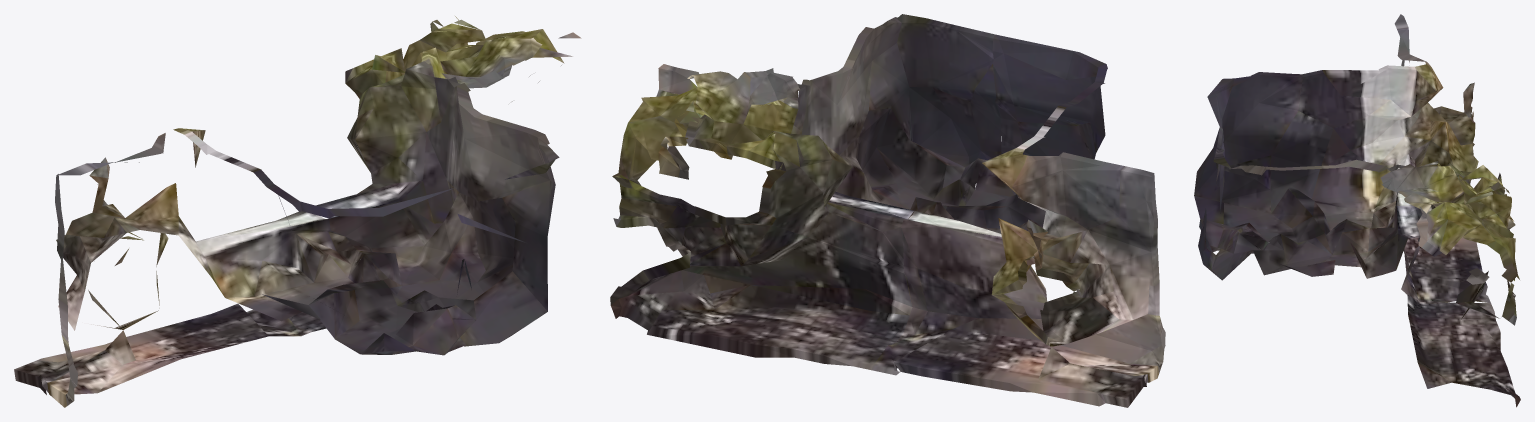
The picture shows the model from 3 angles, left to right: view 1: azimuth 30°, elevation 25°; view 2: azimuth 150°, elevation 25°; view 3: azimuth 270°, elevation 25°; orthographic projection. The views are drawn at different scales.
Parts seen in each view (by area): view 1: Mesh_0; view 2: Mesh_0; view 3: Mesh_0.
Boxes of the visible parts, <box> form: Mesh_0: <box>14,16,581,407</box>; Mesh_0: <box>610,14,1165,407</box>; Mesh_0: <box>1194,14,1520,407</box>.
Size of the model in its own units: 29.63 by 13.27 by 19.39.
Materials: 1 (1 with a texture image).
